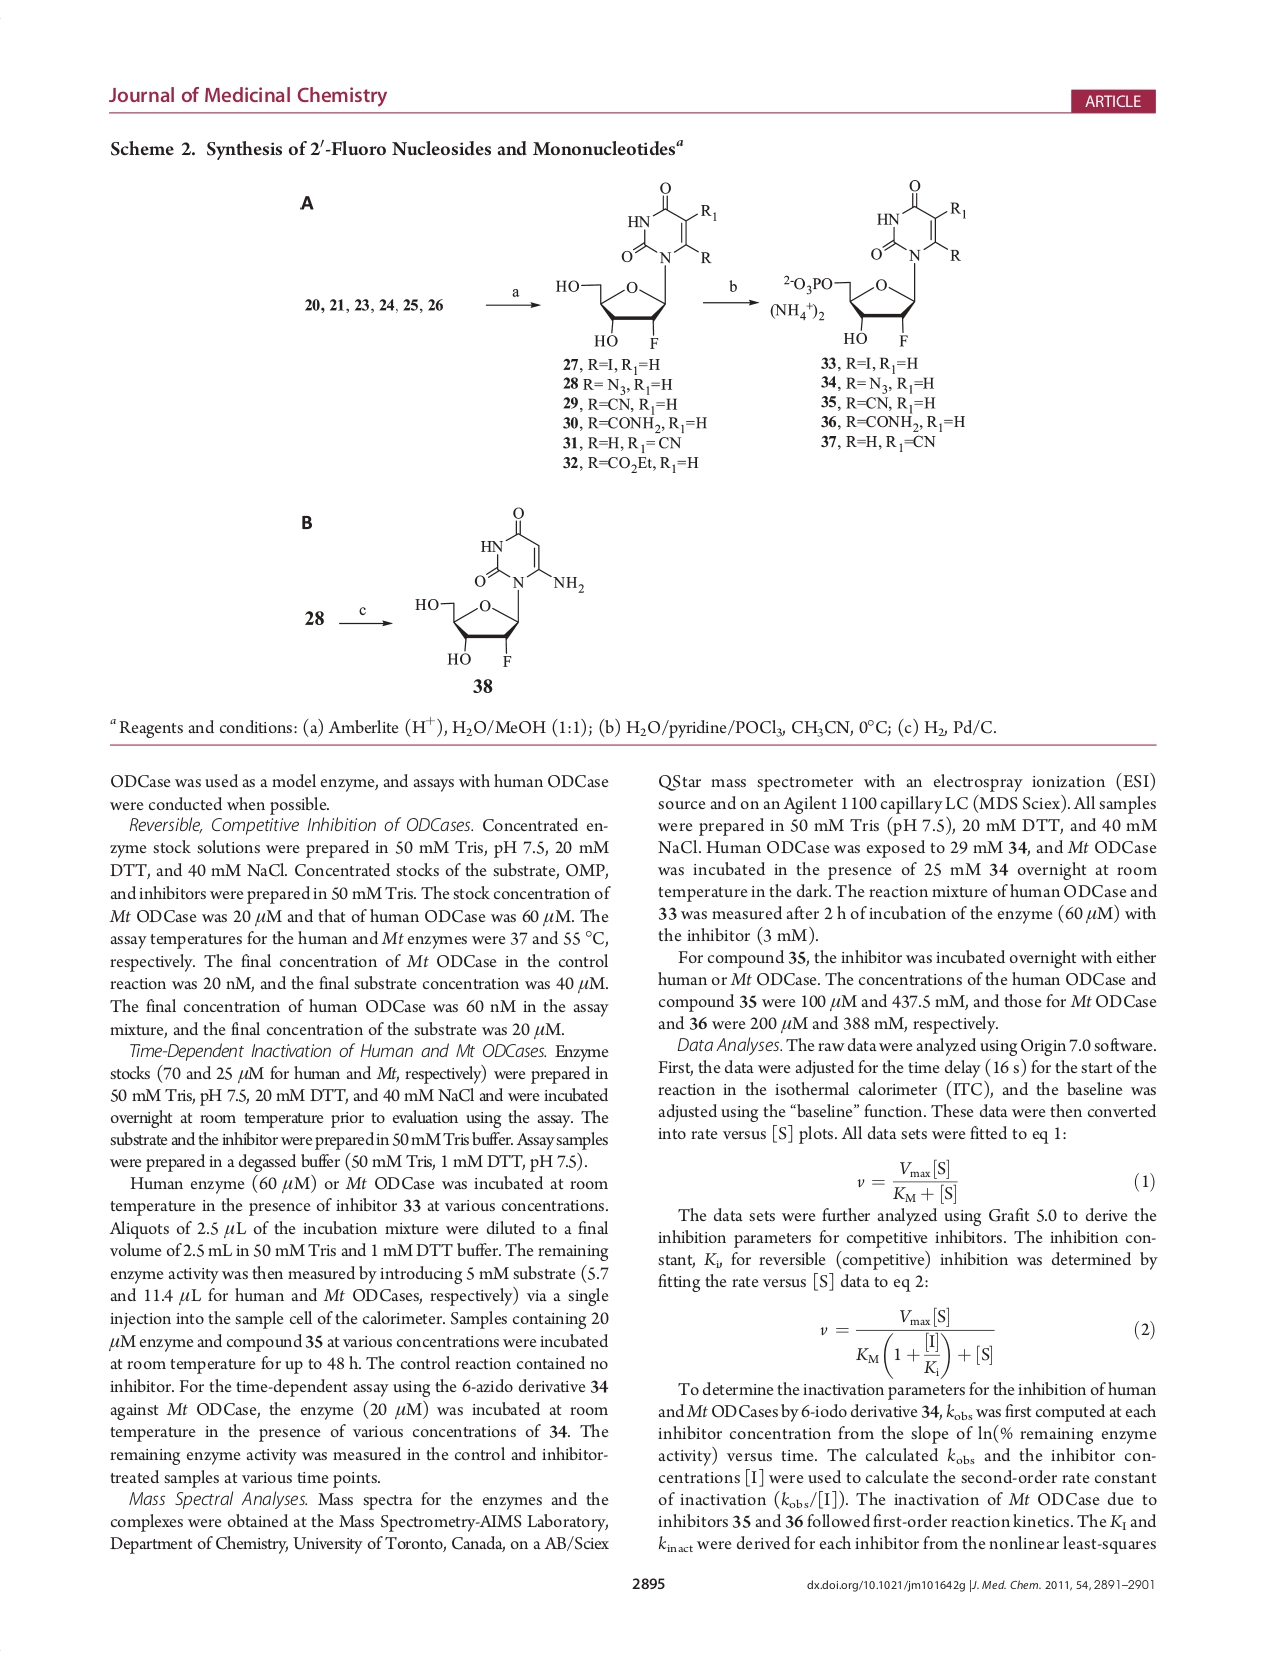exist_molecular: (770, 178, 969, 348), (410, 500, 588, 672), (551, 180, 715, 352)
